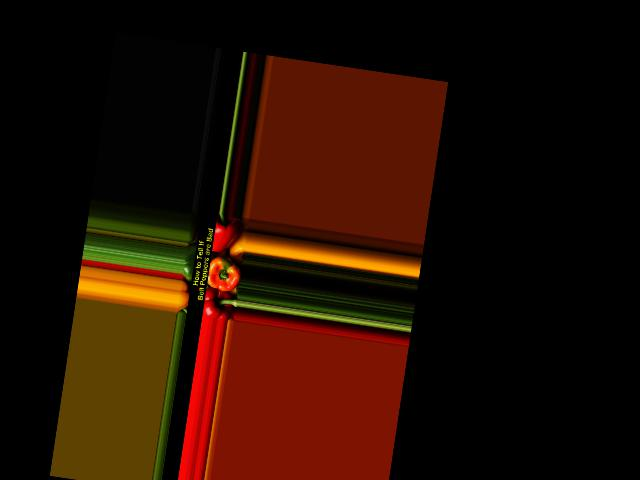bell_pepper: (200, 284, 238, 319)
